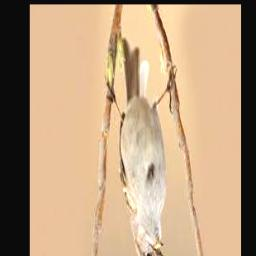Sparrow: (107, 40, 177, 256)
